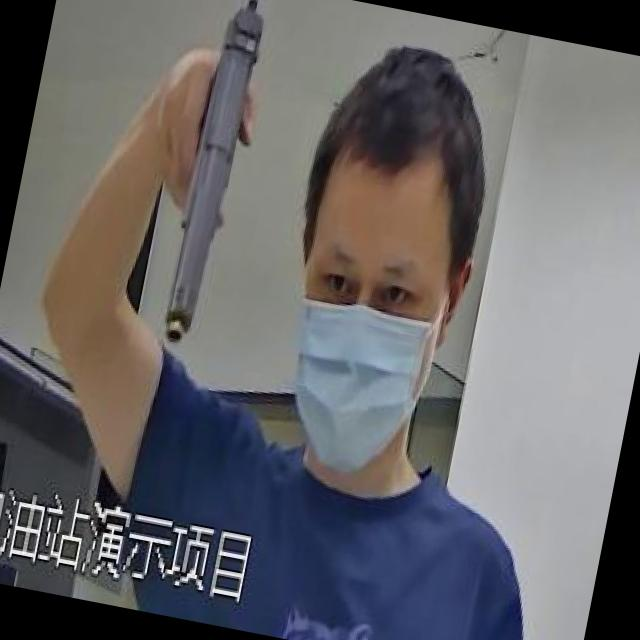Guns: (119, 0, 312, 367)
